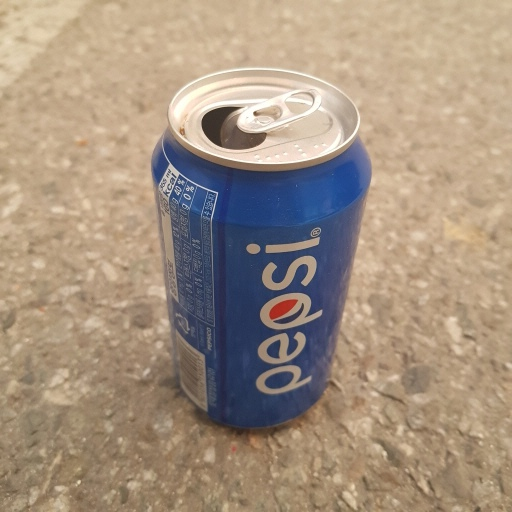Metal_0: (148, 67, 376, 431)
